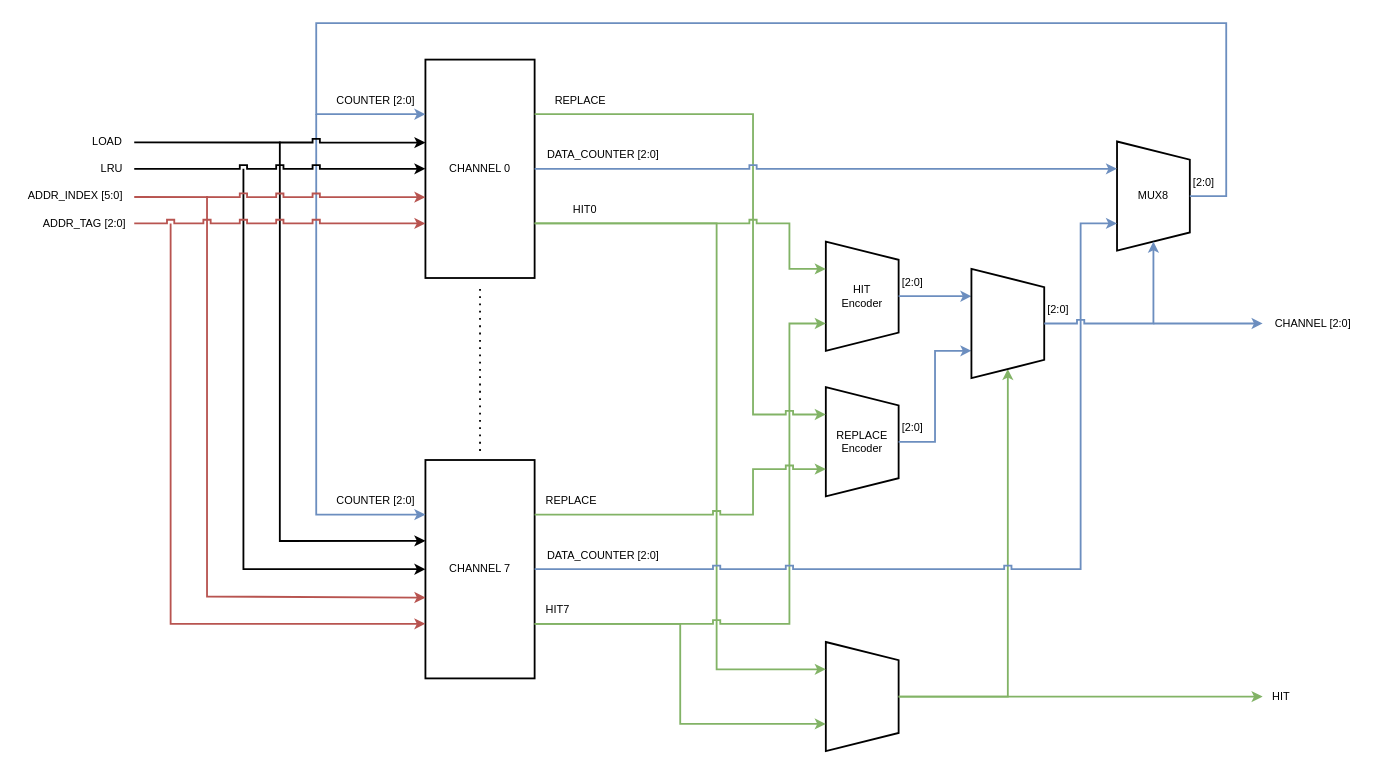
Image size: 1378x767. Some labels were removed from this diagram. The centre of each missing label's shape, as x and y in pixels:
MUX2: (x=1007, y=323)
OR: (x=861, y=696)
